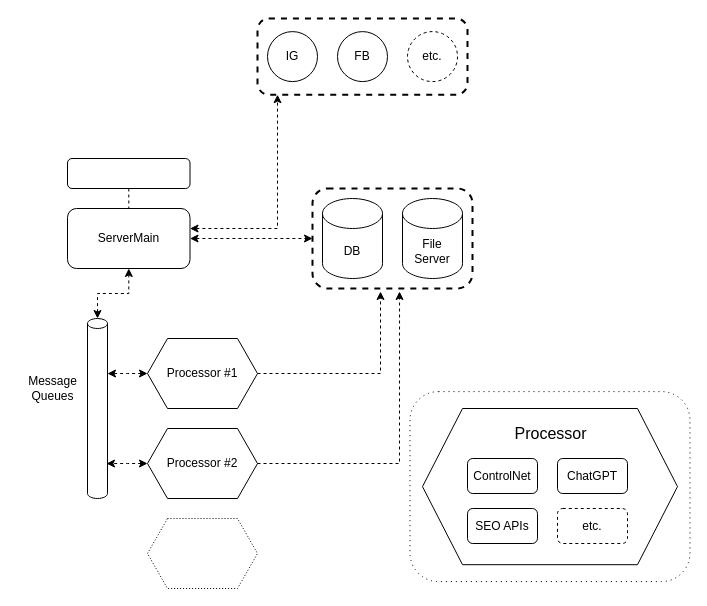
Image size: 707x606. Some labels were removed from this diagram. The shapes that lost their labels are listed below. From the top down, each one's centre as x and y in pixels, then its label:
pixel 128 173: Interface
pixel 202 553: more as needed
